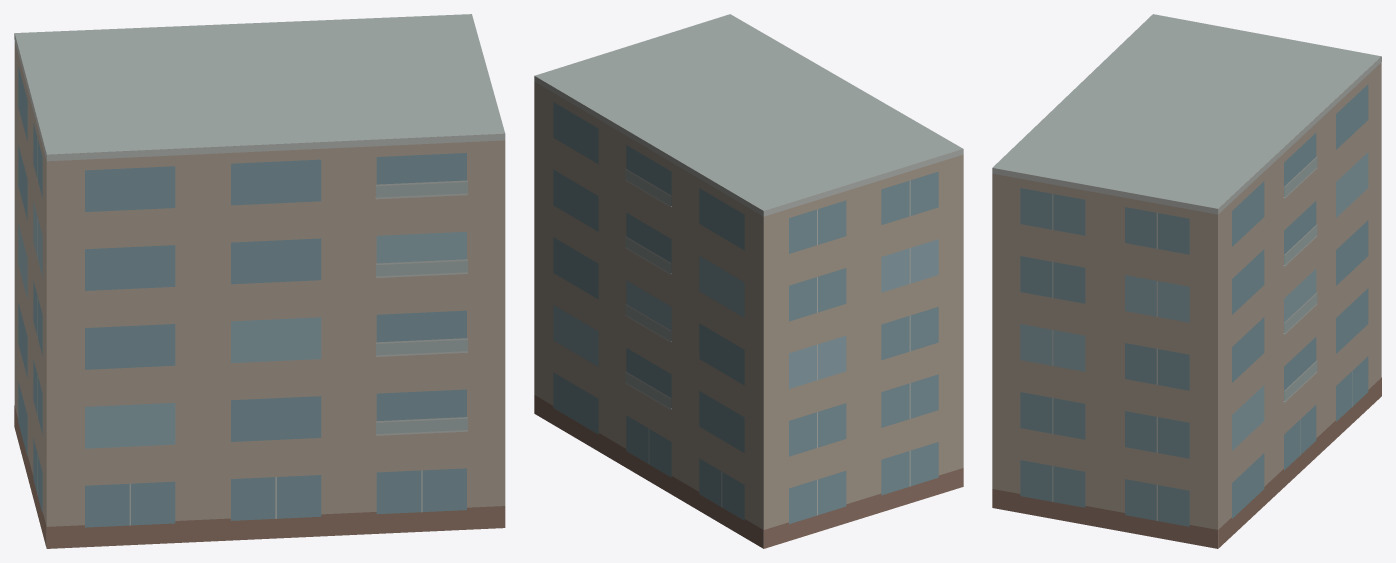
File: survey-upis-33022907.glb
3 views of the same model, side by side, from view 1: azimuth 30°, elevation 25°; view 2: azimuth 150°, elevation 25°; view 3: azimuth 270°, elevation 25° (orthographic). The views are drawn at different scales.
Parts seen in each view (by area): view 1: survey-upis-33022907.tmp; view 2: survey-upis-33022907.tmp; view 3: survey-upis-33022907.tmp.
Boxes of the visible parts, x1,y1,x2,y2 form: survey-upis-33022907.tmp: (14, 14, 505, 548); survey-upis-33022907.tmp: (534, 14, 963, 548); survey-upis-33022907.tmp: (992, 14, 1381, 548).
Size of the model in its own units: 17.7 by 14.4 by 14.96.
